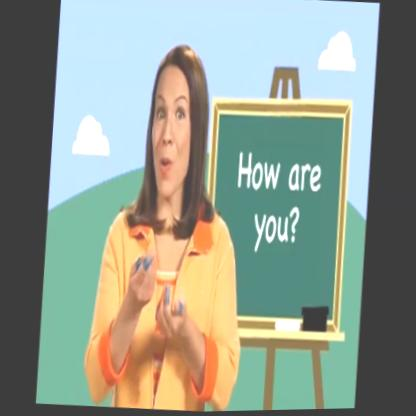HowAreYou: (109, 225, 202, 382)
